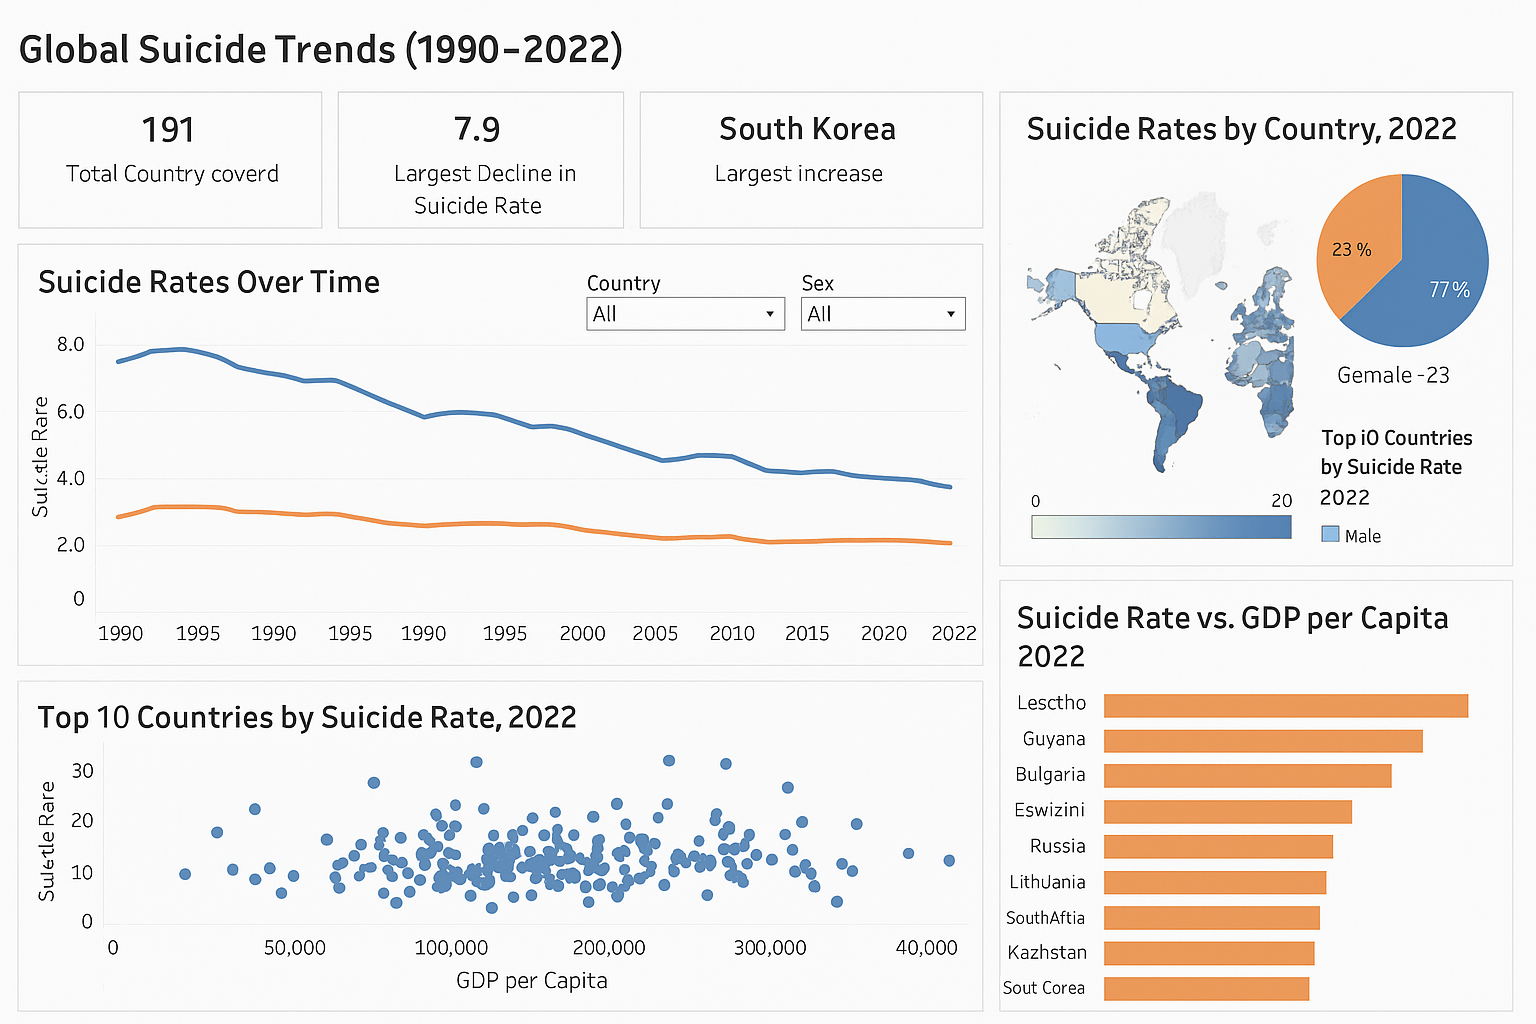

This screenshot's page, from the dashboard's own definition file:
{"tool":"tableau","page":{"name":"Dashboard 1","canvas":[1000,800],"ordinal":0},"visuals":[{"type":"worksheet","title":"total countries","mark":"Automatic","box":[8,8,247.3,70]},{"type":"worksheet","title":"Sheet 2","mark":"Automatic","box":[255.3,8,494.7,306]},{"type":"filter","title":"Sheet 2","param":"[federated.0xdp6az0ysi2l310pda3q0q26mkl].[none:Year:qk]","box":[750,8,242,77]},{"type":"worksheet","title":"Sheet 3","mark":"Pie","box":[8,78,247.3,236]},{"type":"worksheet","title":"Sheet 8","mark":"Area","rows":["CountryName"],"cols":["Calculation_1055540276396131"],"box":[750,85,242,330]},{"type":"legend","title":"Sheet 2","param":"[federated.0xdp6az0ysi2l310pda3q0q26mkl].[sum:DeathRatePer100K:qk]","box":[468,262,234,71]},{"type":"worksheet","title":"Sheet 5","mark":"Shape","rows":["DeathRatePer100K"],"cols":["GDPPerCapita"],"box":[8,314,742,230]},{"type":"worksheet","title":"Sheet 4","mark":"Automatic","rows":["CountryName"],"cols":["DeathRatePer100K"],"box":[750,415,242,377]},{"type":"legend","title":"Sheet 1","param":"[federated.0xdp6az0ysi2l310pda3q0q26mkl].[none:Sex:nk]","box":[668,539,95,59]},{"type":"worksheet","title":"Sheet 1","mark":"Line","rows":["StdDeathRate"],"cols":["Year"],"box":[8,544,742,248]}]}

Visuals, with their boxes on the page's 1000x800 design canvas (x1, y1, x2, y2). These are canvas units, not pixel positions in the 1536x1024 screenshot, which may show the page scaled, cropped or inside an application window:
"total countries" worksheet: (left=8, top=8, right=255, bottom=78)
"Sheet 2" worksheet: (left=255, top=8, right=750, bottom=314)
"Sheet 2" filter: (left=750, top=8, right=992, bottom=85)
"Sheet 3" worksheet (Pie marks): (left=8, top=78, right=255, bottom=314)
"Sheet 8" worksheet (Area marks): (left=750, top=85, right=992, bottom=415)
"Sheet 2" legend: (left=468, top=262, right=702, bottom=333)
"Sheet 5" worksheet (Shape marks): (left=8, top=314, right=750, bottom=544)
"Sheet 4" worksheet: (left=750, top=415, right=992, bottom=792)
"Sheet 1" legend: (left=668, top=539, right=763, bottom=598)
"Sheet 1" worksheet (Line marks): (left=8, top=544, right=750, bottom=792)
